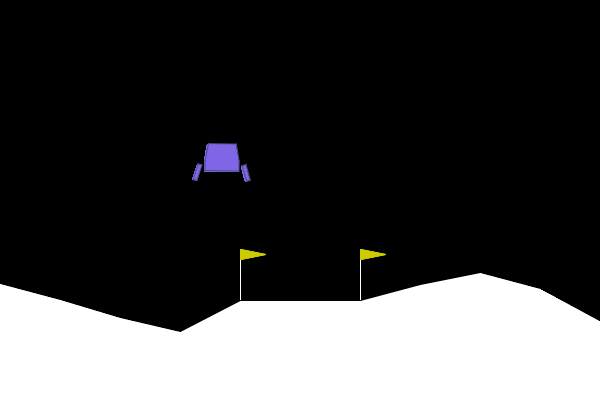lander: (191, 142, 252, 183)
